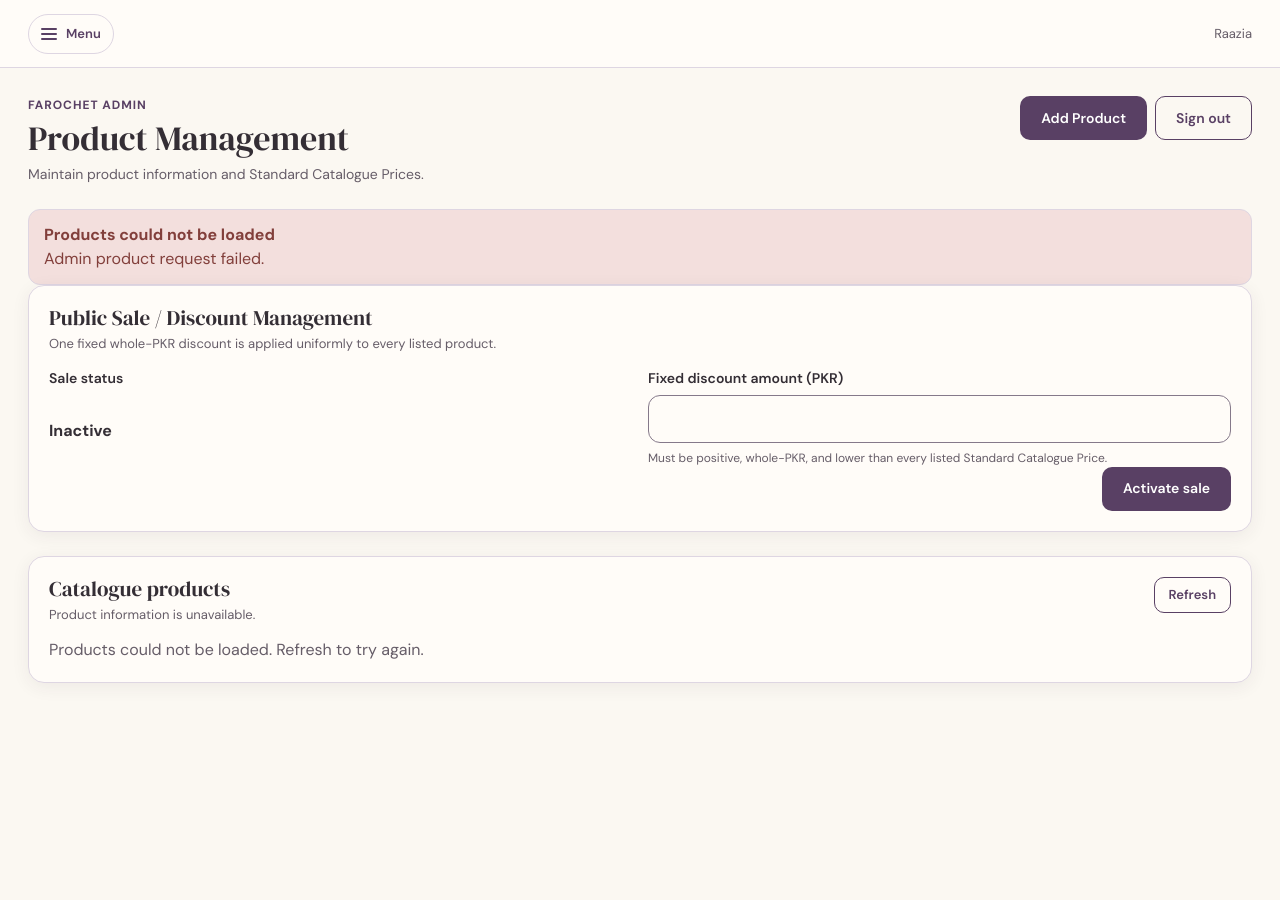
Test: ProductManagementPage loading states › does not show an empty catalogue after product loading fails and can retry
Check: the text "Products could not be loaded. Refresh to try again." is shown, box top-left (49, 639), bottom-right (424, 660)
Click the button "Refresh": (1192, 595) top-left (1154, 577), bottom-right (1231, 613)
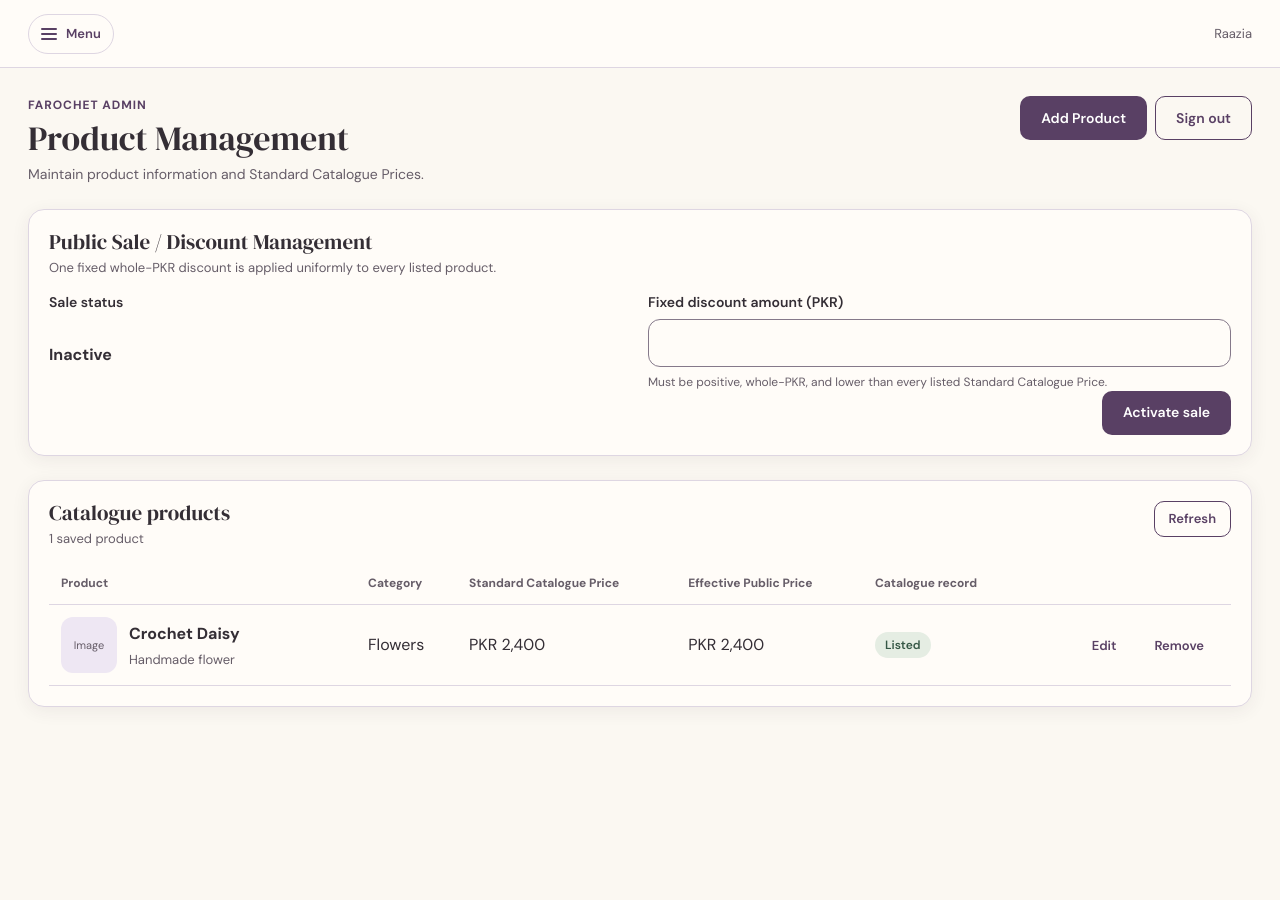
Check: the text "1 saved product" is shown, box top-left (49, 530), bottom-right (144, 547)
Check: the text "Crochet Daisy" is shown, box top-left (129, 623), bottom-right (240, 644)
